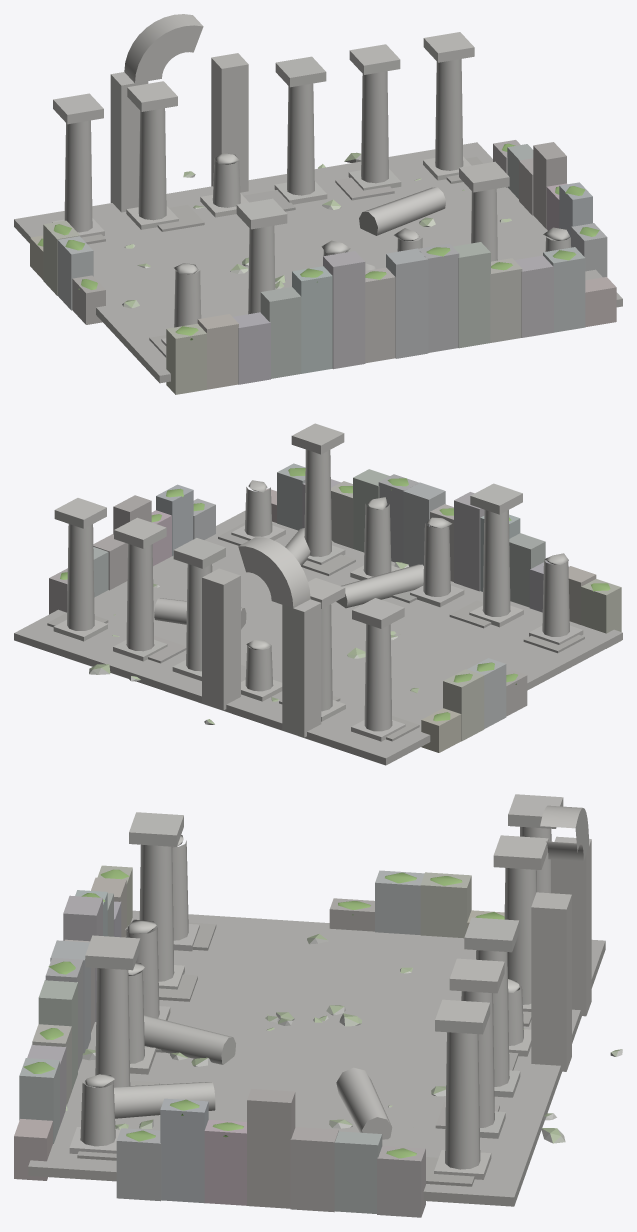
File: struct_3_10.glb
3 renders of one model, top to bottom at view 1: azimuth 30°, elevation 25°; view 2: azimuth 150°, elevation 25°; view 3: azimuth 270°, elevation 25°, orthographic. The views are drawn at different scales.
Parts seen in each view (by area): view 1: Landmarks; view 2: Landmarks; view 3: Landmarks.
Part boxes in pixels (x1,y1,x2,y2): Landmarks: (14, 14, 622, 394); Landmarks: (14, 423, 622, 765); Landmarks: (14, 794, 622, 1217).
Bounding box in the file's own units: 26.64 × 10.2 × 23.79.
